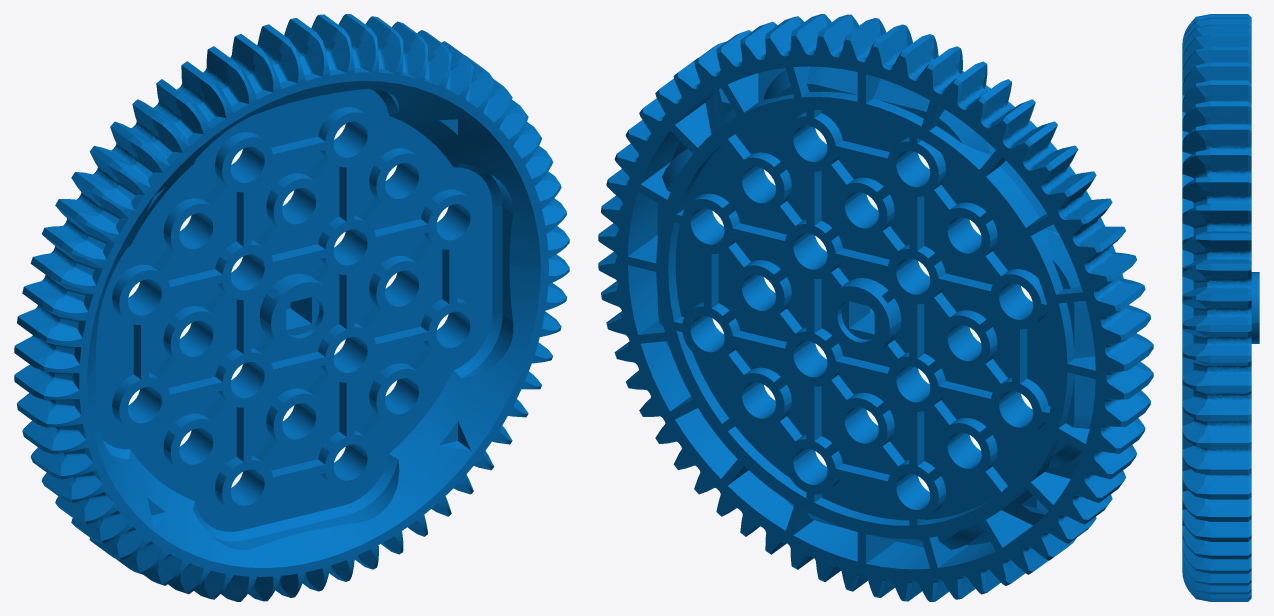
Rendered from 60 Tooth Hybrid Gear (228-2500-254).glb.
The picture shows the model from 3 angles, left to right: view 1: azimuth 30°, elevation 25°; view 2: azimuth 150°, elevation 25°; view 3: azimuth 270°, elevation 25°; orthographic projection. The views are drawn at different scales.
Parts seen in each view (by area): view 1: 60 Tooth Hybrid Gear (228-2500-254); view 2: 60 Tooth Hybrid Gear (228-2500-254); view 3: 60 Tooth Hybrid Gear (228-2500-254).
Part boxes in pixels (box(x1,y1,x2,y2)): 60 Tooth Hybrid Gear (228-2500-254): box(14, 14, 569, 601); 60 Tooth Hybrid Gear (228-2500-254): box(598, 14, 1153, 601); 60 Tooth Hybrid Gear (228-2500-254): box(1182, 14, 1259, 601).
Bounding box in the file's own units: 2.58 × 2.58 × 0.34.
